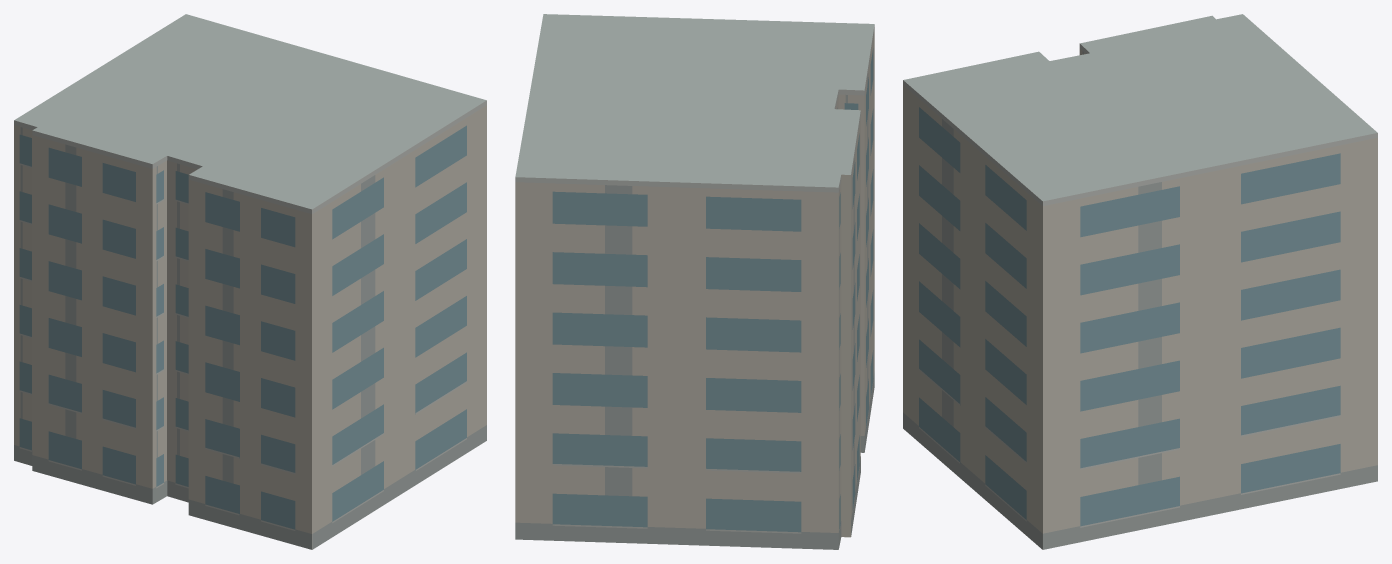
The model's file is survey-upis-32826543.glb.
3 views of the same model, side by side, from view 1: azimuth 30°, elevation 25°; view 2: azimuth 150°, elevation 25°; view 3: azimuth 270°, elevation 25° (orthographic). The views are drawn at different scales.
Parts seen in each view (by area): view 1: survey-upis-32826543.tmp; view 2: survey-upis-32826543.tmp; view 3: survey-upis-32826543.tmp.
Boxes of the visible parts, box(x1,y1,x2,y2) form: survey-upis-32826543.tmp: box(14, 14, 486, 549); survey-upis-32826543.tmp: box(515, 14, 874, 549); survey-upis-32826543.tmp: box(903, 14, 1377, 549).
Bounding box in the file's own units: 20.19 × 17.5 × 21.61.
